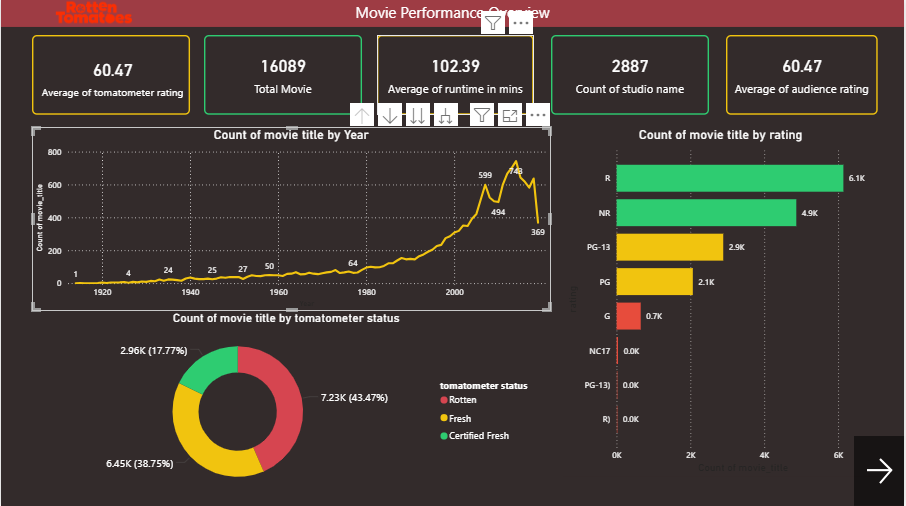

The page's visual inventory and layout, read from the dashboard file:
{"tool":"powerbi","page":{"name":"Overview","canvas":[1280,720],"ordinal":0},"visuals":[{"type":"textbox","box":[0,0,1280,41.2],"z":0},{"type":"card","fields":{"Values":["Avg(Rotten Tomatoes Movies.tomatometer_rating)"]},"box":[43.9,52.7,223.8,112.6],"z":1000},{"type":"card","fields":{"Values":["Count(Rotten Tomatoes Movies.movie_title)"]},"box":[288.2,52.7,223.8,112.6],"z":2000},{"type":"card","fields":{"Values":["Avg(Rotten Tomatoes Movies.runtime_in_minutes)"]},"box":[532.5,52.7,222.4,112.6],"z":3000},{"type":"card","fields":{"Values":["Count(Rotten Tomatoes Movies.studio_name)"]},"box":[779.7,52.7,223.8,112.6],"z":4000},{"type":"card","fields":{"Values":["Avg(Rotten Tomatoes Movies.audience_rating)"]},"box":[1028.4,52.7,215,112.6],"z":5000},{"type":"clusteredBarChart","title":"Count of movie title by rating","fields":{"Y":["CountNonNull(Rotten Tomatoes Movies.movie_title)"],"Category":["Rotten Tomatoes Movies.rating"]},"box":[796.6,182.9,447.2,496.1],"z":6000},{"type":"lineChart","title":"Count of movie title by Year","fields":{"Category":["Rotten Tomatoes Movies.in_theaters_date.Variation.Date Hierarchy.Year","Rotten Tomatoes Movies.in_theaters_date.Variation.Date Hierarchy.Quarter","Rotten Tomatoes Movies.in_theaters_date.Variation.Date Hierarchy.Month"],"Y":["CountNonNull(Rotten Tomatoes Movies.movie_title)"]},"box":[43.9,182.5,735.3,260.7],"z":7000},{"type":"donutChart","title":"Count of movie title by tomatometer status","fields":{"Y":["CountNonNull(Rotten Tomatoes Movies.movie_title)"],"Category":["Rotten Tomatoes Movies.tomatometer_status"]},"box":[43.9,443.2,721.2,266.2],"z":8000},{"type":"image","box":[13.4,0,237.9,41.5],"z":9000},{"type":"actionButton","box":[1209.1,620.9,70.9,99.2],"z":9001}]}

Visuals, with their boxes on the page's 1280x720 design canvas (x1, y1, x2, y2). These are canvas units, not pixel positions in the 906x506 screenshot, which may show the page scaled, cropped or inside an application window:
textbox: x1=0, y1=0, x2=1280, y2=41
card - Avg(Rotten Tomatoes Movies.tomatometer_rating): x1=44, y1=53, x2=268, y2=165
card - Count(Rotten Tomatoes Movies.movie_title): x1=288, y1=53, x2=512, y2=165
card - Avg(Rotten Tomatoes Movies.runtime_in_minutes): x1=532, y1=53, x2=755, y2=165
card - Count(Rotten Tomatoes Movies.studio_name): x1=780, y1=53, x2=1004, y2=165
card - Avg(Rotten Tomatoes Movies.audience_rating): x1=1028, y1=53, x2=1243, y2=165
"Count of movie title by rating" clusteredBarChart: x1=797, y1=183, x2=1244, y2=679
"Count of movie title by Year" lineChart: x1=44, y1=182, x2=779, y2=443
"Count of movie title by tomatometer status" donutChart: x1=44, y1=443, x2=765, y2=709
image: x1=13, y1=0, x2=251, y2=42
actionButton: x1=1209, y1=621, x2=1280, y2=720
